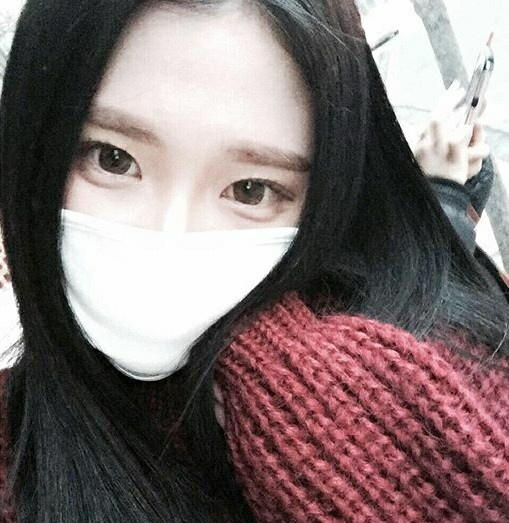face_mask: (50, 6, 316, 380)
